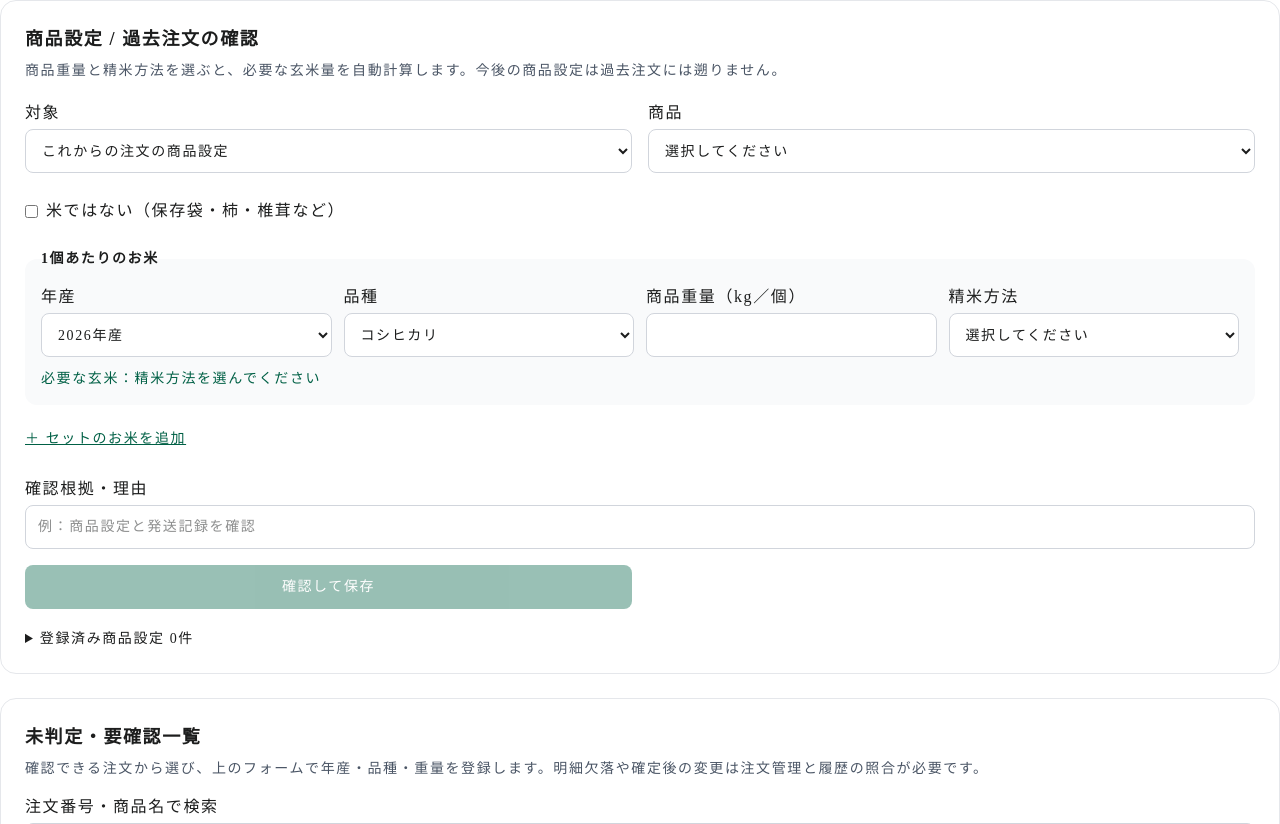
Scenario: does not save an empty option mapping when product options fail to load
Select "コシヒカリ5kg" in the dropdown labelled "商品" at (952, 151), box x1=648 y1=129 x2=1255 y2=173
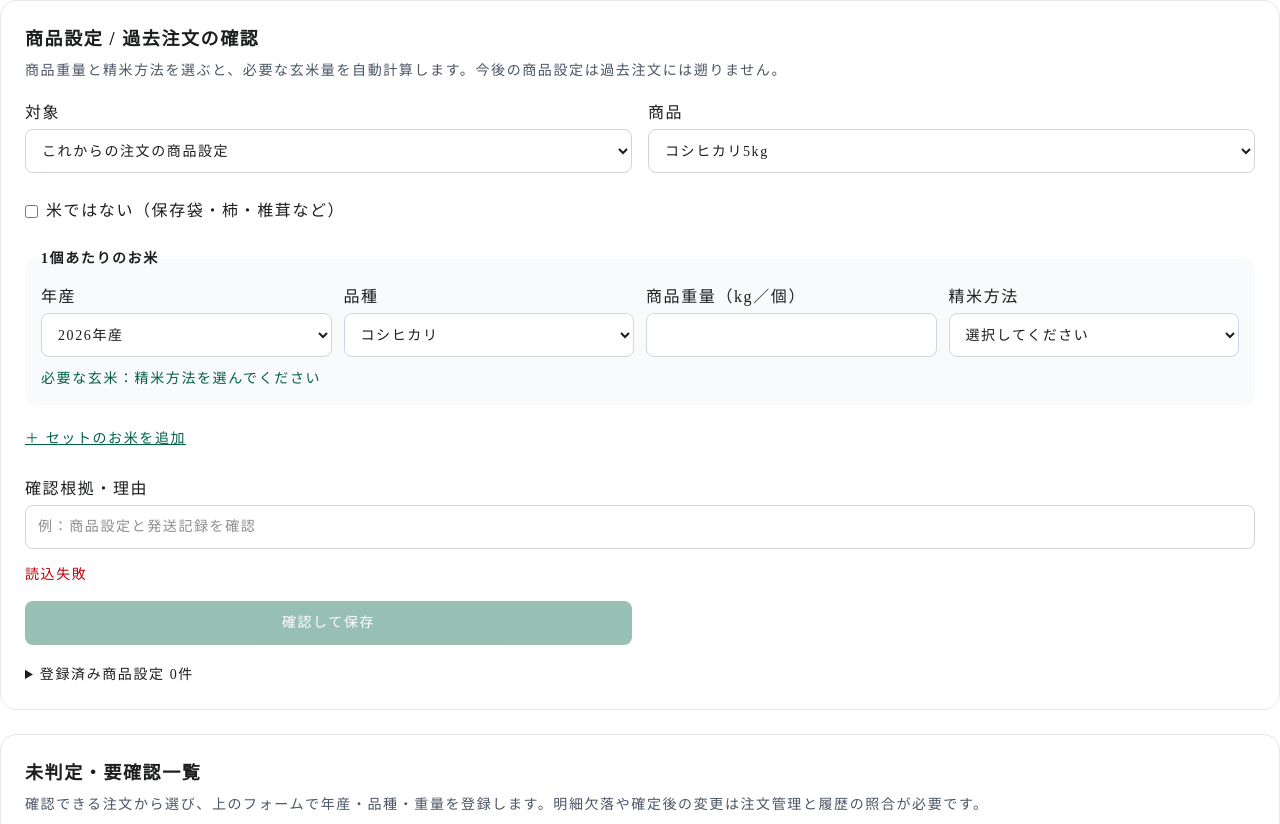
Expected: the button "確認して保存" is disabled, x1=25 y1=601 x2=632 y2=645
Result: the text "読込失敗" is shown at x1=25 y1=567 x2=87 y2=582
